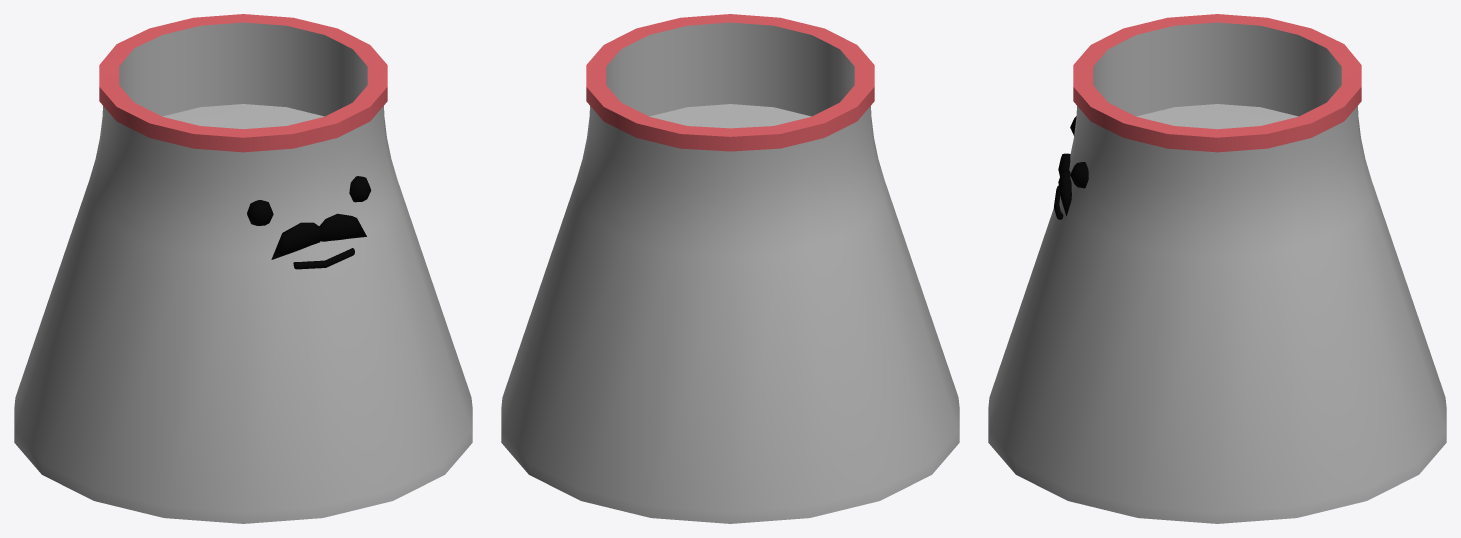
File: cooling_tower.fbx
3 views of the same model, side by side, from view 1: azimuth 30°, elevation 25°; view 2: azimuth 150°, elevation 25°; view 3: azimuth 270°, elevation 25° (orthographic).
Parts seen in each view (by area): view 1: Cylinder001.003; view 2: Cylinder001.003; view 3: Cylinder001.003.
Part boxes in pixels (bbox=[...]): Cylinder001.003: bbox=[14, 14, 472, 523]; Cylinder001.003: bbox=[501, 14, 959, 523]; Cylinder001.003: bbox=[988, 14, 1446, 523].
Size of the model in its own units: 4140 by 3441 by 4077.
